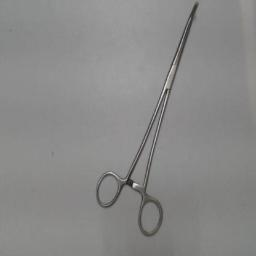Lahey Forceps: (92, 1, 202, 241)
